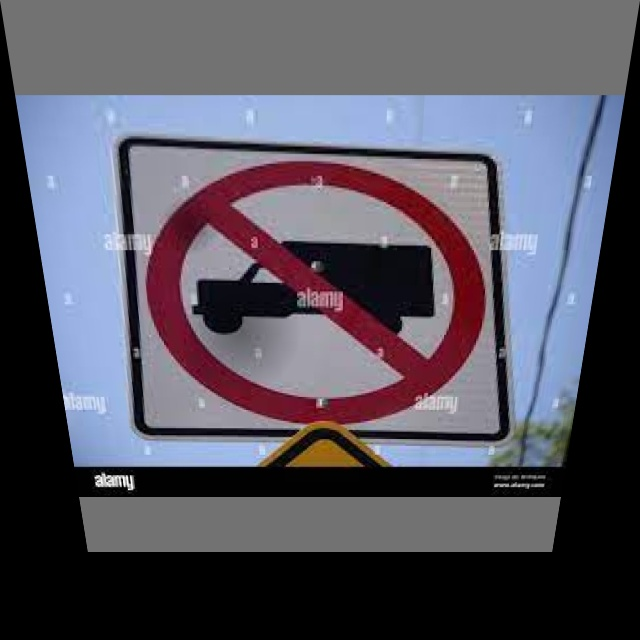Truck_Prohibited: (135, 156, 512, 421)
